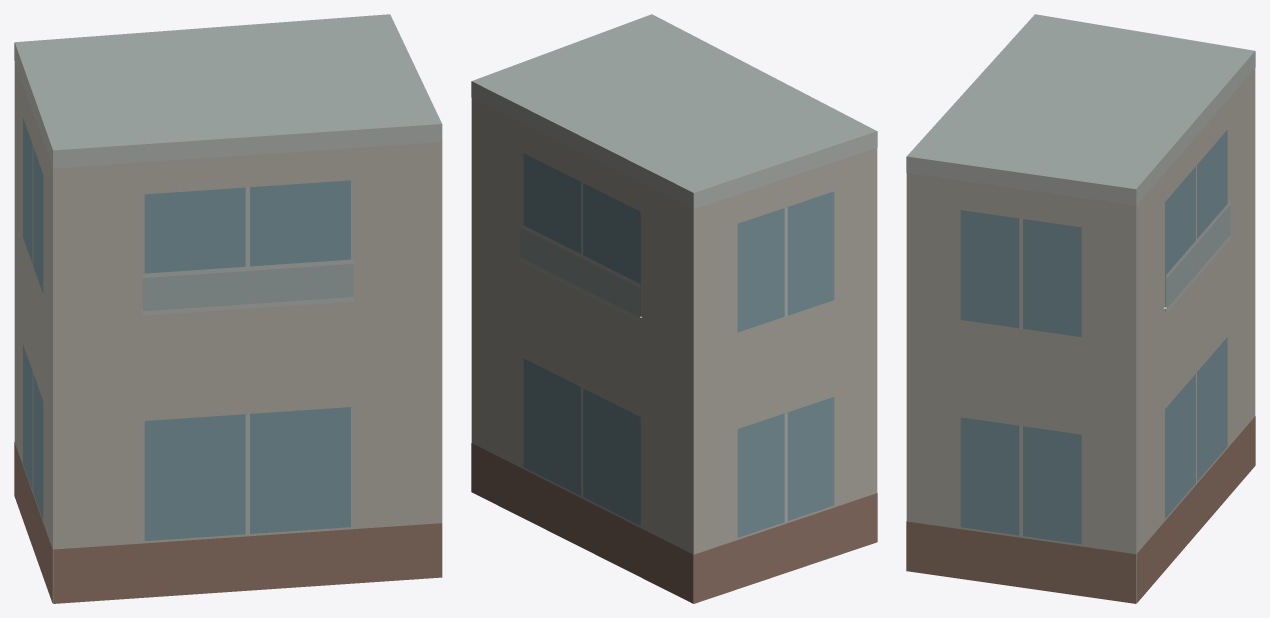
Rendered from survey-upis-33041943.glb.
3 renders of one model, left to right at view 1: azimuth 30°, elevation 25°; view 2: azimuth 150°, elevation 25°; view 3: azimuth 270°, elevation 25°, orthographic. The views are drawn at different scales.
Visible parts, largest first — view 1: survey-upis-33041943.tmp; view 2: survey-upis-33041943.tmp; view 3: survey-upis-33041943.tmp.
Boxes of the visible parts, bbox=[...] form: survey-upis-33041943.tmp: bbox=[14, 14, 442, 603]; survey-upis-33041943.tmp: bbox=[471, 14, 877, 603]; survey-upis-33041943.tmp: bbox=[906, 14, 1255, 603].
Bounding box in the file's own units: 5.54 × 6.1 × 4.66.
